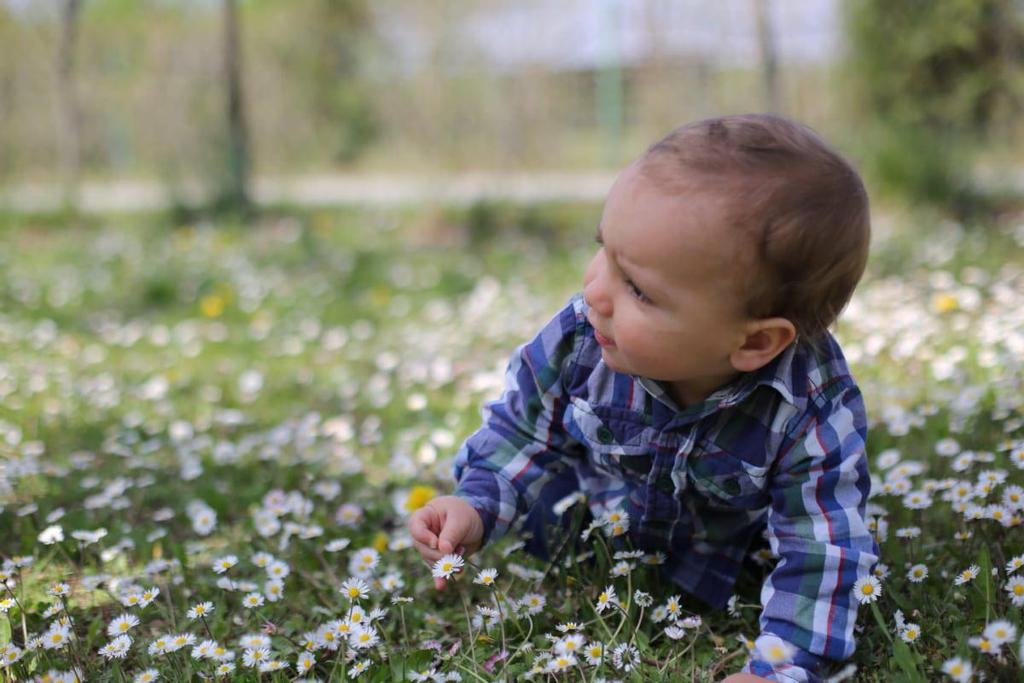child: (379, 100, 898, 683)
